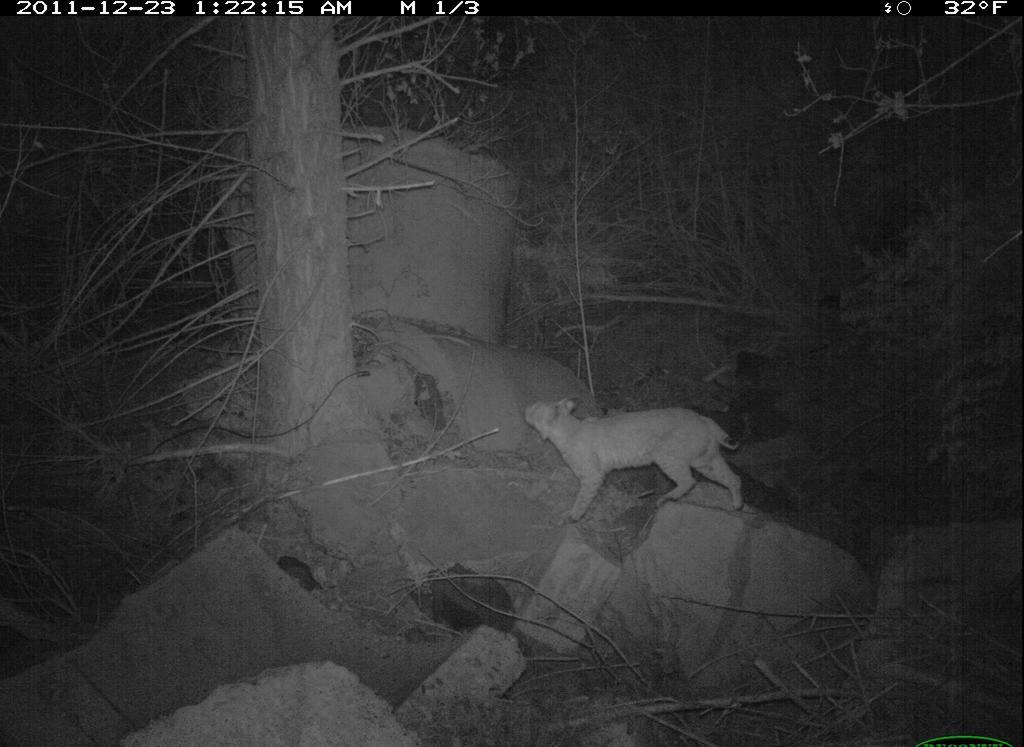bobcat: (520, 391, 753, 521)
